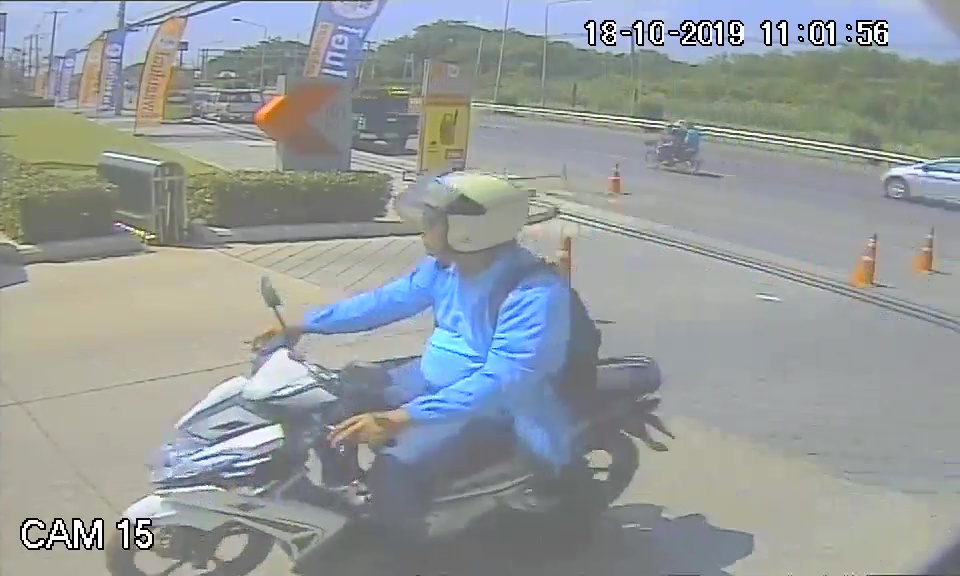motorcycle: (132, 328, 671, 570)
